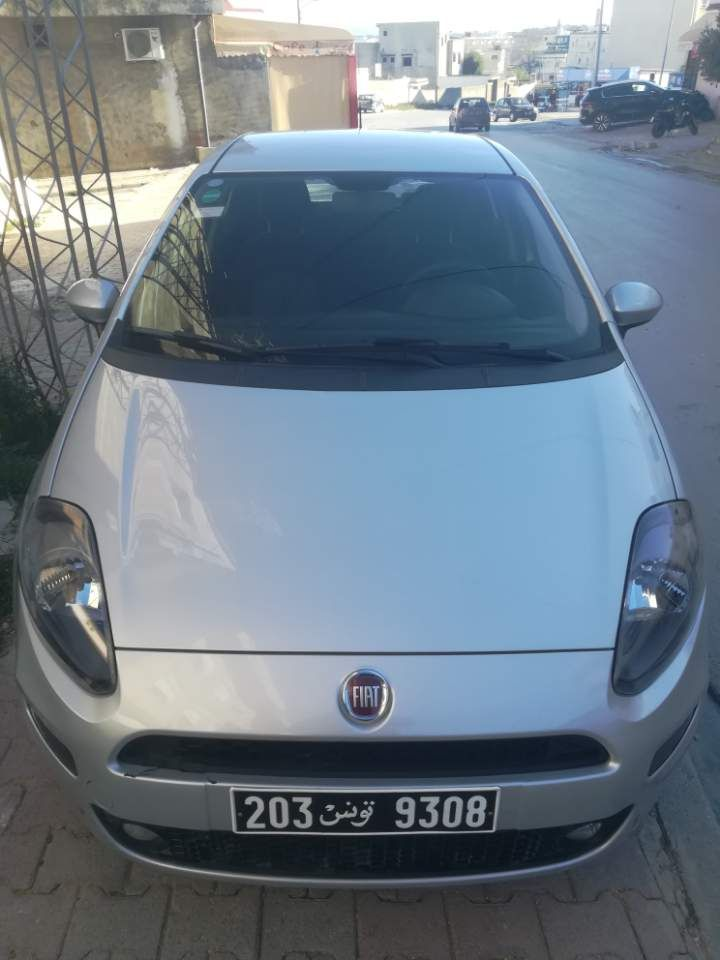LP: (227, 777, 501, 840)
